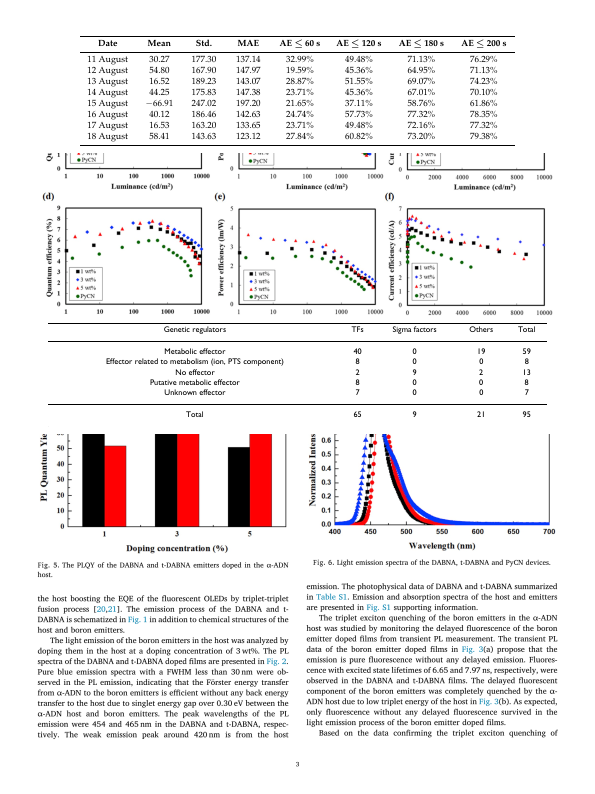borderless: (46, 321, 548, 428), (79, 34, 515, 145)
cell: (104, 358, 284, 368), (148, 378, 240, 388), (162, 325, 227, 335), (163, 348, 226, 357), (163, 389, 226, 398), (335, 39, 382, 49), (397, 39, 444, 49), (460, 39, 507, 49), (86, 55, 128, 66), (86, 66, 128, 77), (86, 77, 128, 88), (86, 88, 128, 99), (86, 99, 128, 110), (86, 110, 128, 121), (86, 121, 128, 132), (86, 132, 128, 143), (391, 325, 437, 335), (278, 39, 321, 49), (174, 368, 215, 378), (343, 55, 373, 66), (406, 55, 436, 66), (468, 55, 498, 66), (343, 66, 373, 77), (406, 66, 436, 77), (468, 66, 498, 77), (343, 77, 373, 88), (406, 77, 436, 88), (468, 77, 498, 88), (343, 88, 373, 99), (406, 88, 436, 99), (468, 88, 498, 99), (144, 99, 174, 110), (343, 99, 373, 110), (406, 99, 436, 110), (468, 99, 498, 110), (343, 110, 373, 121), (406, 110, 436, 121), (468, 110, 498, 121), (343, 121, 373, 132), (406, 121, 436, 132), (468, 121, 498, 132), (343, 132, 373, 143), (406, 132, 436, 143), (468, 132, 498, 143), (285, 55, 314, 66), (285, 66, 314, 77), (285, 77, 314, 88), (285, 88, 314, 99), (285, 99, 314, 110), (285, 110, 314, 121), (285, 121, 314, 132), (285, 132, 314, 143), (190, 55, 217, 66), (234, 55, 261, 66), (190, 66, 217, 77), (234, 66, 261, 77), (190, 77, 217, 88), (234, 77, 261, 88), (190, 88, 217, 99), (234, 88, 261, 99), (190, 99, 217, 110), (234, 99, 261, 110), (190, 110, 217, 121), (234, 110, 261, 121), (190, 121, 217, 132), (234, 121, 261, 132), (190, 132, 217, 143), (234, 132, 261, 143), (468, 325, 494, 335), (148, 55, 170, 66), (148, 66, 170, 77), (148, 77, 170, 88), (148, 88, 170, 99), (148, 110, 170, 121), (148, 121, 170, 132), (148, 132, 170, 143), (146, 39, 172, 47), (516, 325, 536, 335), (185, 411, 204, 421), (236, 39, 259, 47), (96, 39, 118, 47), (194, 39, 212, 47), (350, 325, 364, 335), (521, 368, 531, 378), (352, 411, 362, 421), (476, 411, 486, 421), (521, 411, 531, 421), (352, 348, 362, 357), (476, 348, 486, 357), (521, 348, 531, 357), (354, 358, 360, 368), (411, 358, 417, 368), (478, 358, 484, 368), (523, 358, 529, 368), (354, 368, 360, 378), (411, 368, 417, 378), (478, 368, 484, 378), (354, 378, 360, 388), (411, 378, 417, 388), (478, 378, 484, 388), (523, 378, 529, 388), (411, 411, 417, 421), (411, 348, 417, 357), (354, 389, 360, 398), (411, 389, 417, 398), (478, 389, 484, 398), (523, 389, 529, 398)
